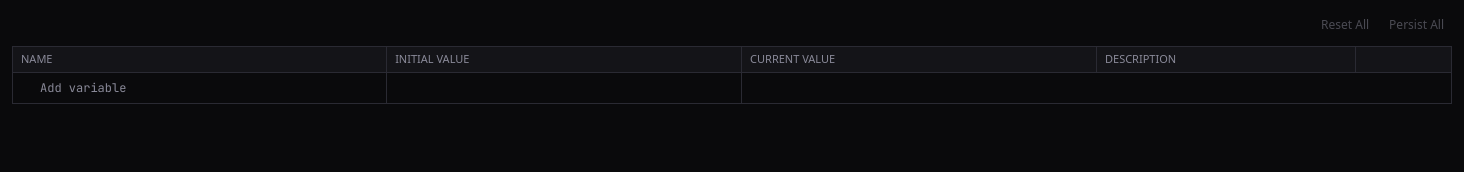
VariableTable › adds a variable by typing its initial value into the empty last row
Step 1. Type "ana" into the field named "Initial value of a new variable" → x=564, y=88, box [387,72,741,102]
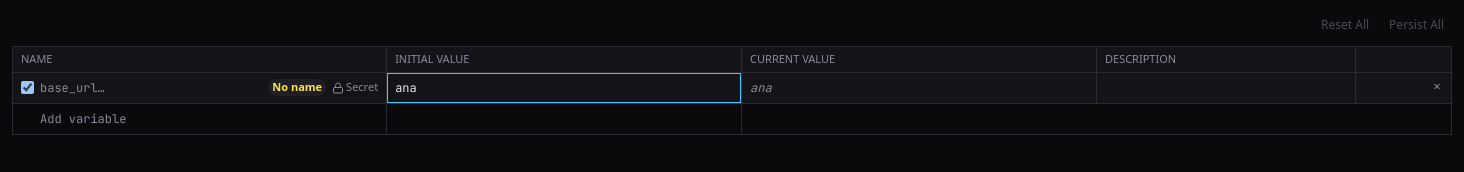
Now the text box named "Initial value of row 1" holds "ana", box [387,72,741,102]
Now the text "No name" is shown, box [268,79,326,96]
